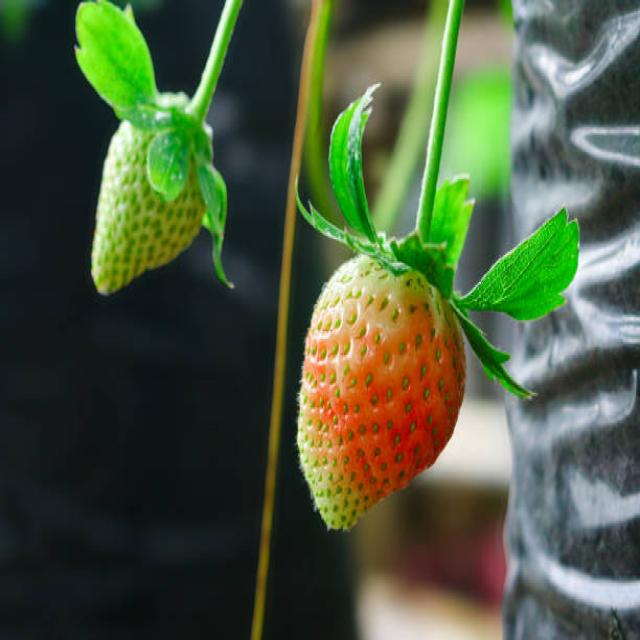Healthy Fruit: (299, 255, 466, 532), (93, 119, 204, 293)
